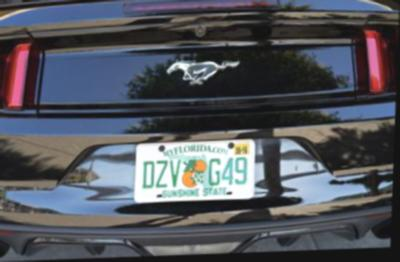License_Plate: (135, 139, 253, 203)
